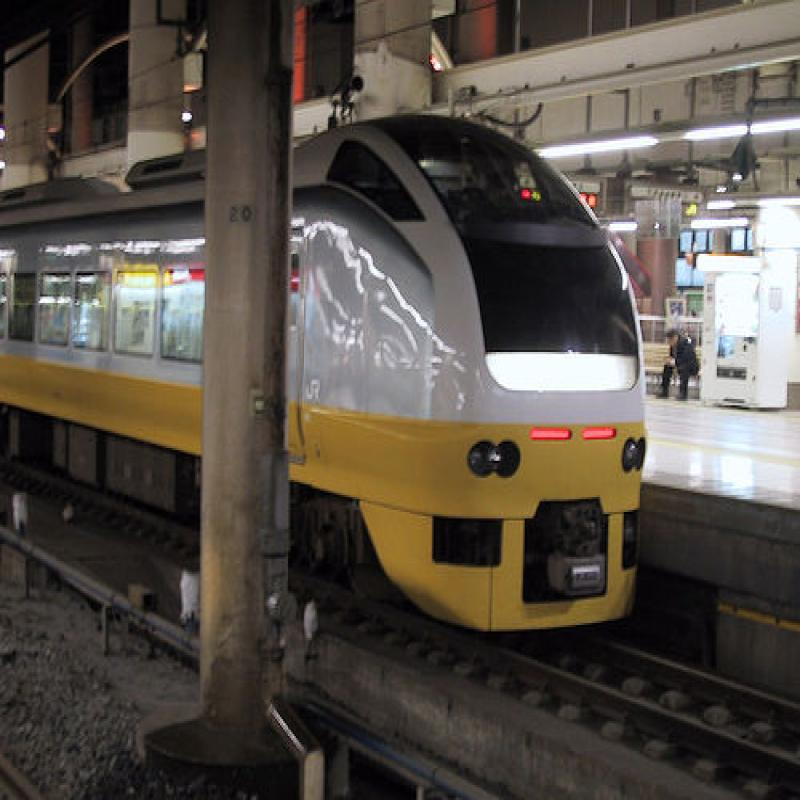train: (3, 112, 649, 635)
